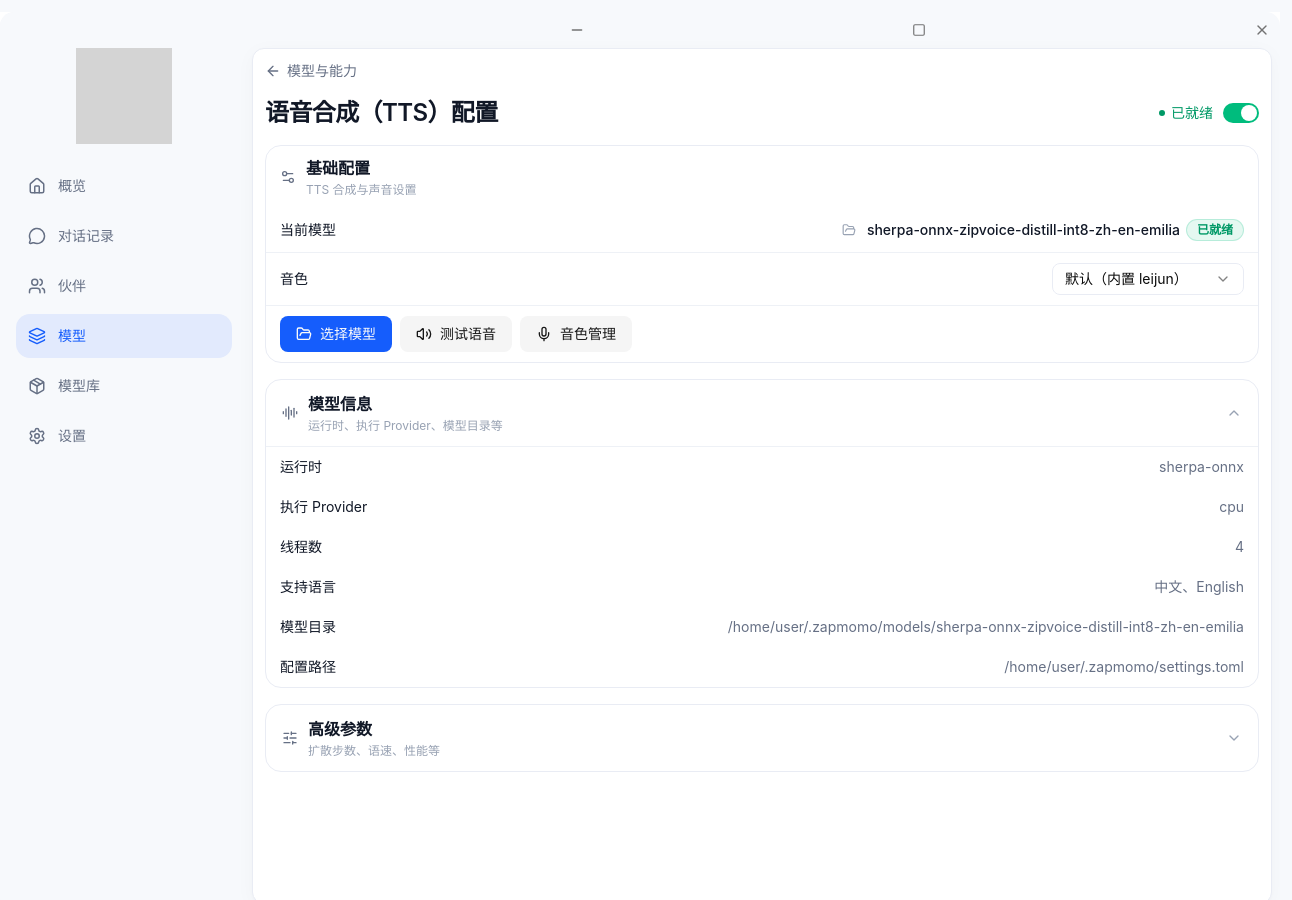
Test case: TtsPage（语音合成 TTS） › 高级参数默认折叠，展开后回显参数并提示下次合成生效
Check: the heading "语音合成（TTS）配置" is shown, box [265, 97, 498, 129]
Click the button "高级参数 扩散步数、语速、性能等" at (340, 729), box [266, 705, 1258, 771]
(page scrolled)
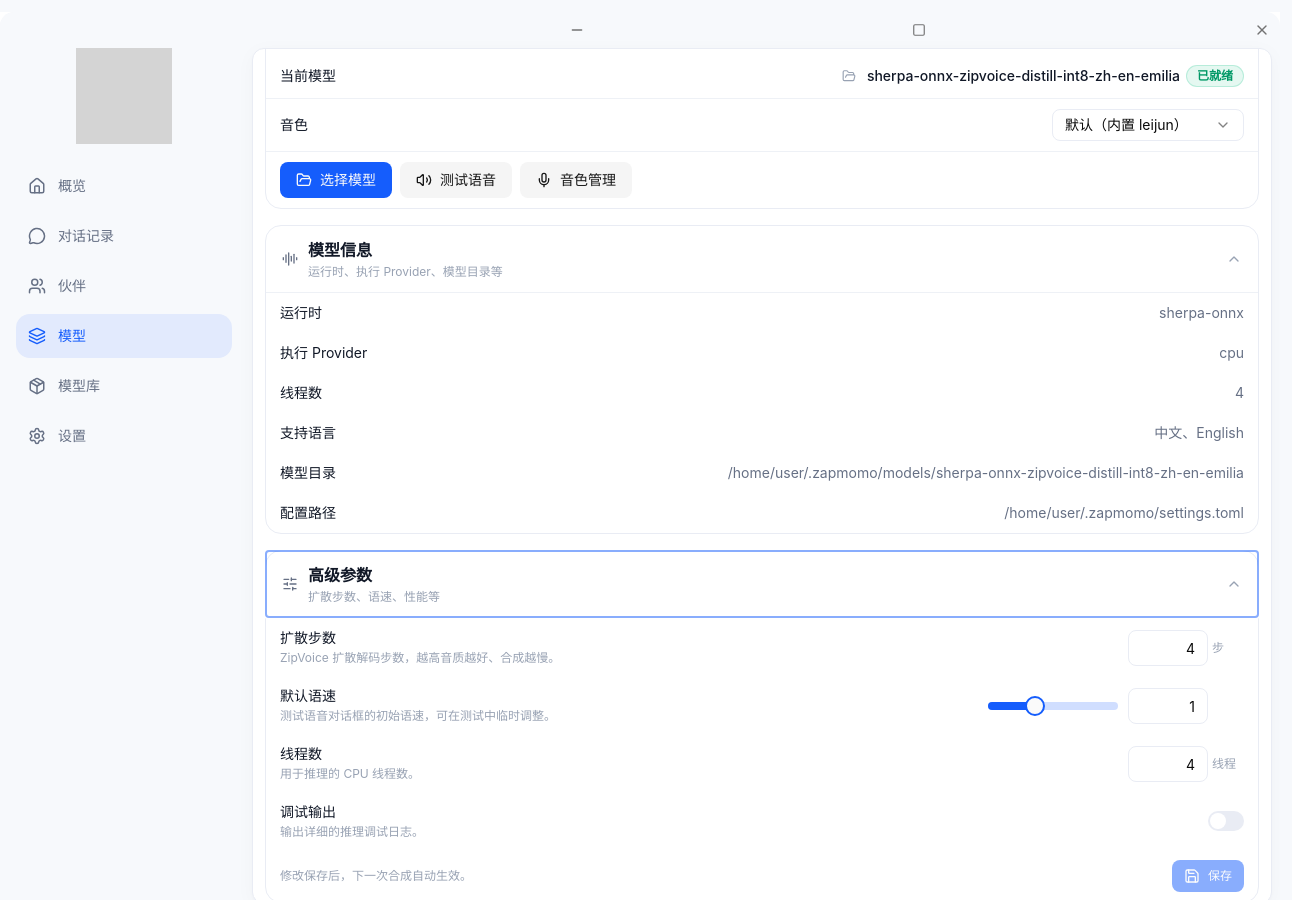
Check: the field named "扩散步数" holds "4", box [1128, 630, 1208, 666]
Check: the button "高级参数 扩散步数、语速、性能等" is expanded, box [266, 551, 1258, 617]
Check: the text "修改保存后，下一次合成自动生效。" is shown, box [280, 868, 472, 884]
